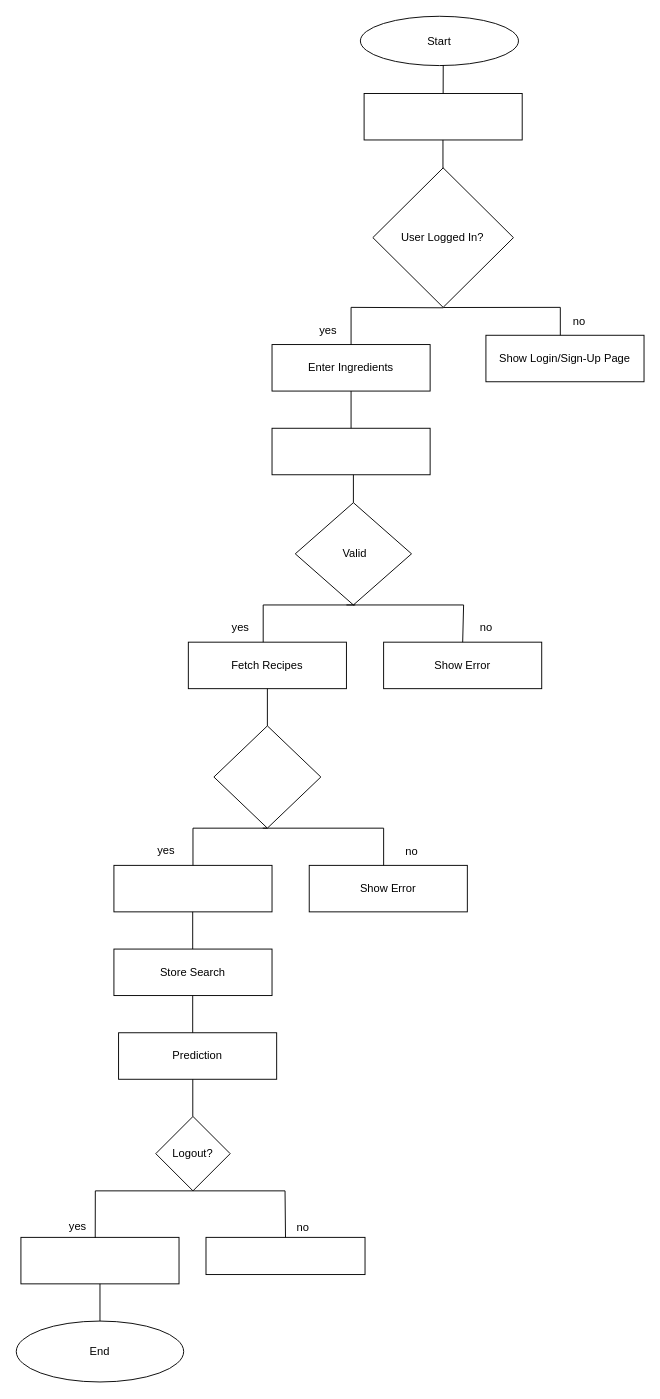
Image size: 660x1399. Some labels were removed from this diagram. The box of each missing label's shape, as (x1, y1, x2, y2) in pixels:
Clear Session: (20, 1236, 179, 1284)
Click on Recipe ?: (213, 725, 321, 828)
Display Recipe: (113, 864, 272, 912)
Login / Sign - Up Page: (363, 93, 522, 140)
Stay Logged In: (205, 1236, 365, 1275)
Validate: (271, 427, 430, 475)
